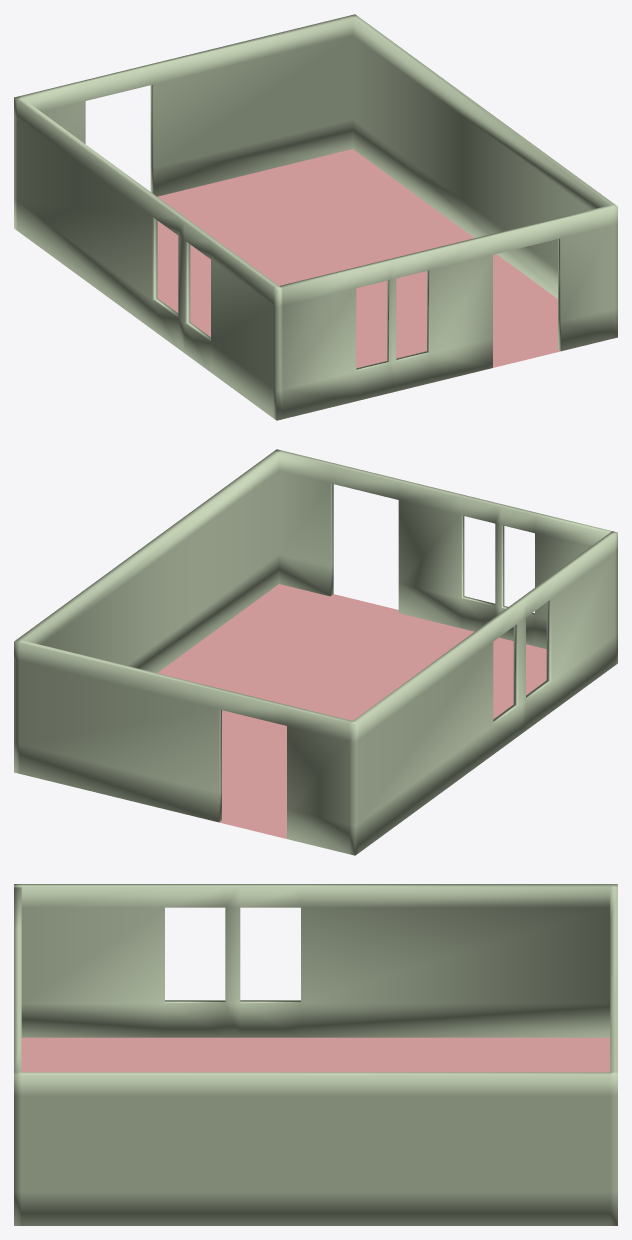
Rendered from room2.fbx.
3 views of the same model, one above another, from view 1: azimuth 30°, elevation 25°; view 2: azimuth 150°, elevation 25°; view 3: azimuth 270°, elevation 25° (orthographic). The views are drawn at different scales.
Parts seen in each view (by area): view 1: Cube; view 2: Cube; view 3: Cube.
Boxes of the visible parts, x1=… form: Cube: x1=14, y1=14, x2=617, y2=420; Cube: x1=14, y1=449, x2=617, y2=855; Cube: x1=14, y1=884, x2=617, y2=1225.
Bounding box in the file's own units: 0.06 × 0.022 × 0.08.
